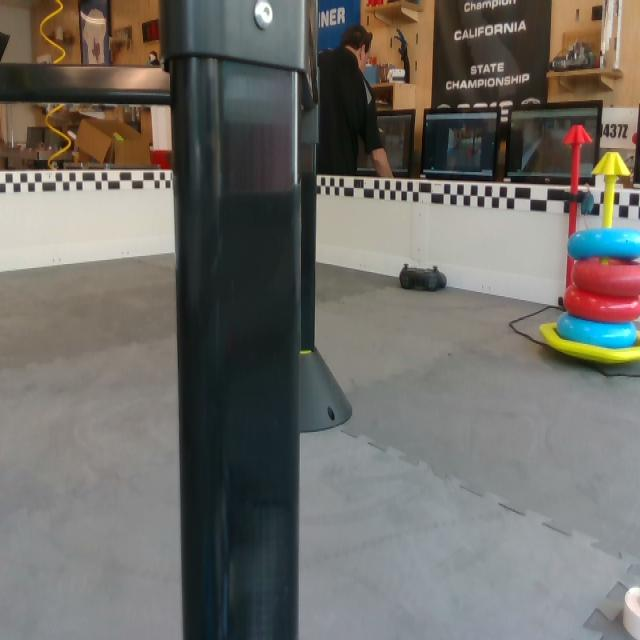Blue-Ring: (553, 316, 639, 349), (569, 228, 639, 260)
Mobile-Goal: (537, 151, 639, 367)
Red-Ring: (558, 288, 639, 327), (571, 258, 639, 295)
Yellow-Stake-Head: (592, 151, 630, 178)
zred-Stake-Head: (563, 125, 592, 144)
